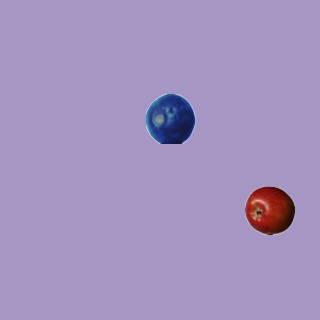Apple Braeburn: (244, 185, 294, 235)
Huckleberry: (145, 93, 195, 143)
